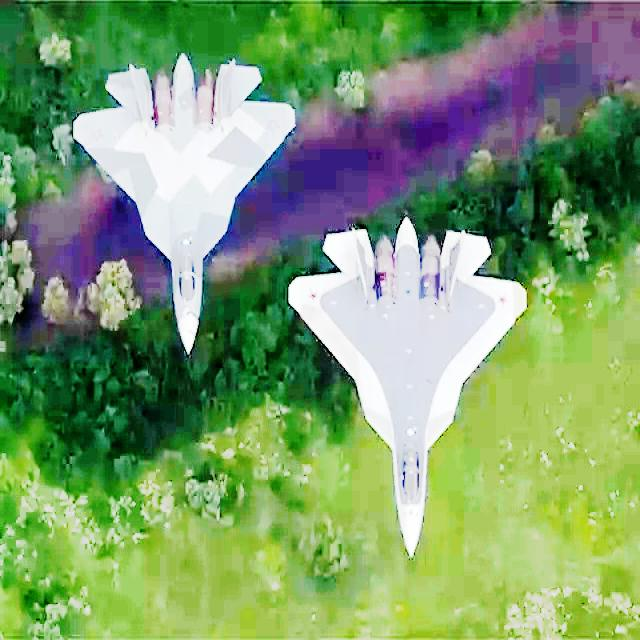Aircraft: (281, 208, 533, 566), (65, 48, 302, 361)
